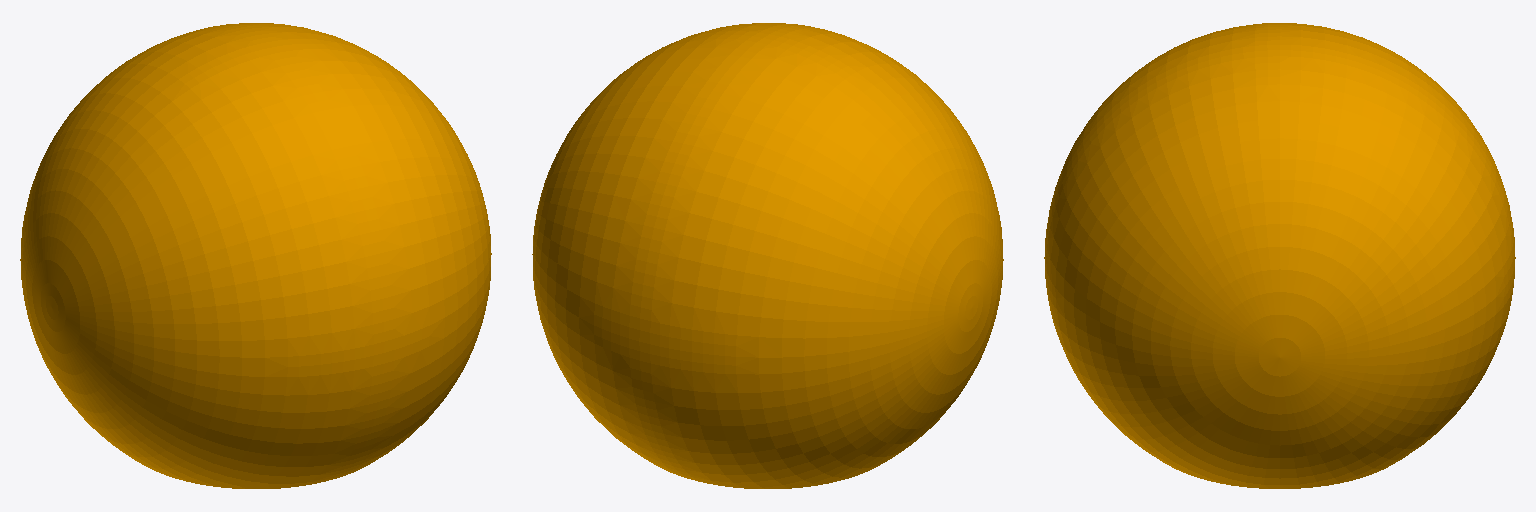
The robot description file, URDF, robot "object":
<?xml version="1.0"?>
<robot name="object">
  <link name="object">
    <visual>
      <origin xyz="0.0 0.0 0.0"/>
      <geometry>
        <mesh filename="sphere_small.stl" scale="1.00 1.00 1.00"/>
      </geometry>
    </visual>
    <collision>
      <origin xyz="0.0 0.0 0.0"/>
      <geometry>
        <mesh filename="sphere_small.stl" scale="1.00 1.00 1.00"/>
      </geometry>
    </collision>
  </link>
</robot>
    
                    

--- Render facts (derived) ---
The picture shows the robot from 3 angles, left to right: view 1: azimuth 30°, elevation 25°; view 2: azimuth 150°, elevation 25°; view 3: azimuth 270°, elevation 25°; orthographic projection.
Robot: object — 1 links, 0 joints (none); root link object; default pose: every joint at zero.
Visible links, largest first — view 1: object; view 2: object; view 3: object.
Boxes of the visible links, left/top/right/bottom form: object: left=20, top=23, right=491, bottom=488; object: left=532, top=23, right=1003, bottom=488; object: left=1044, top=23, right=1515, bottom=488.
Size in the robot's own frame: 0.0404 by 0.0404 by 0.0365 metres.
1 mesh visuals loaded from 1 distinct referenced files (1 binary STL).
